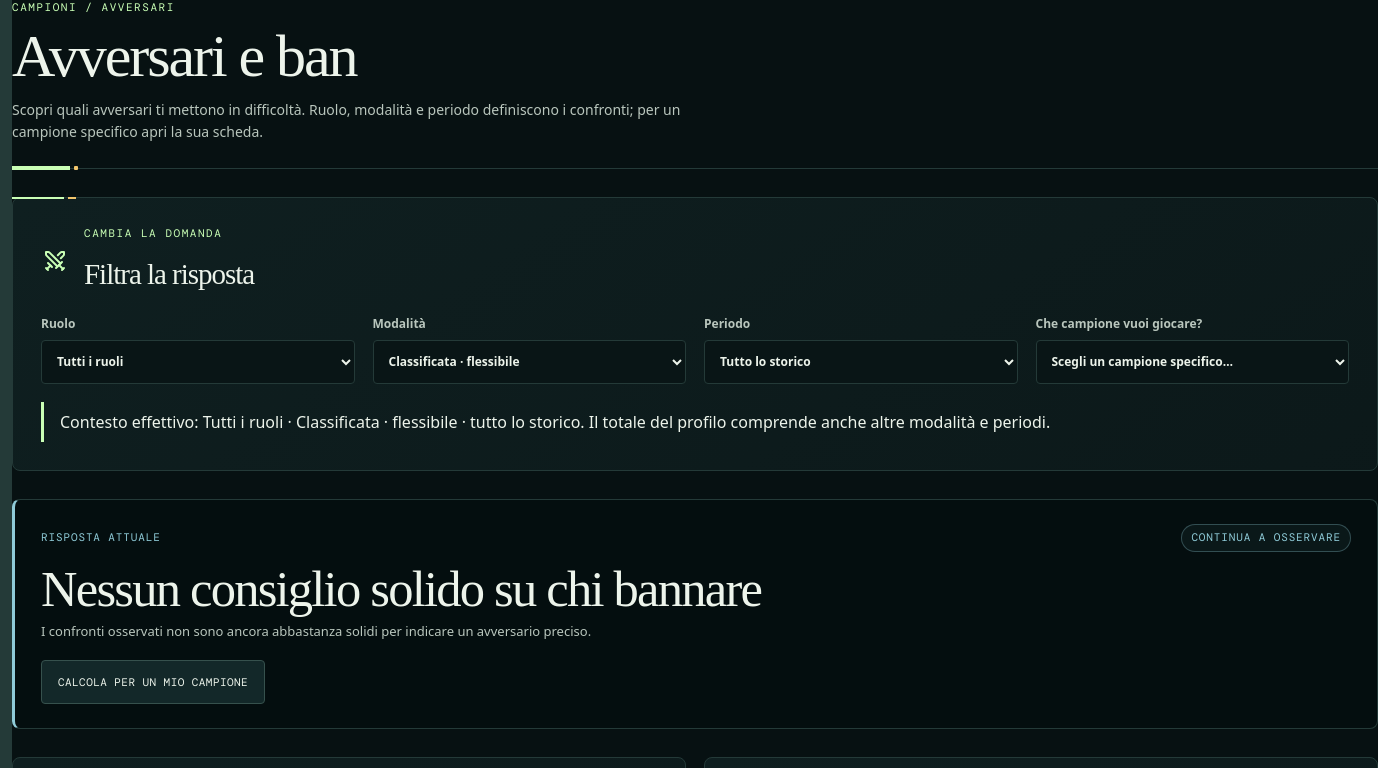
Test: mostra il contesto Flex del link RANKED_FLEX_SR e permette Tutte senza un passaggio intermedio
Step 1. Select "Tutte le modalità" in the dropdown labelled "Modalità" → coordinates (529, 362), box [372, 340, 686, 384]
(page scrolled)
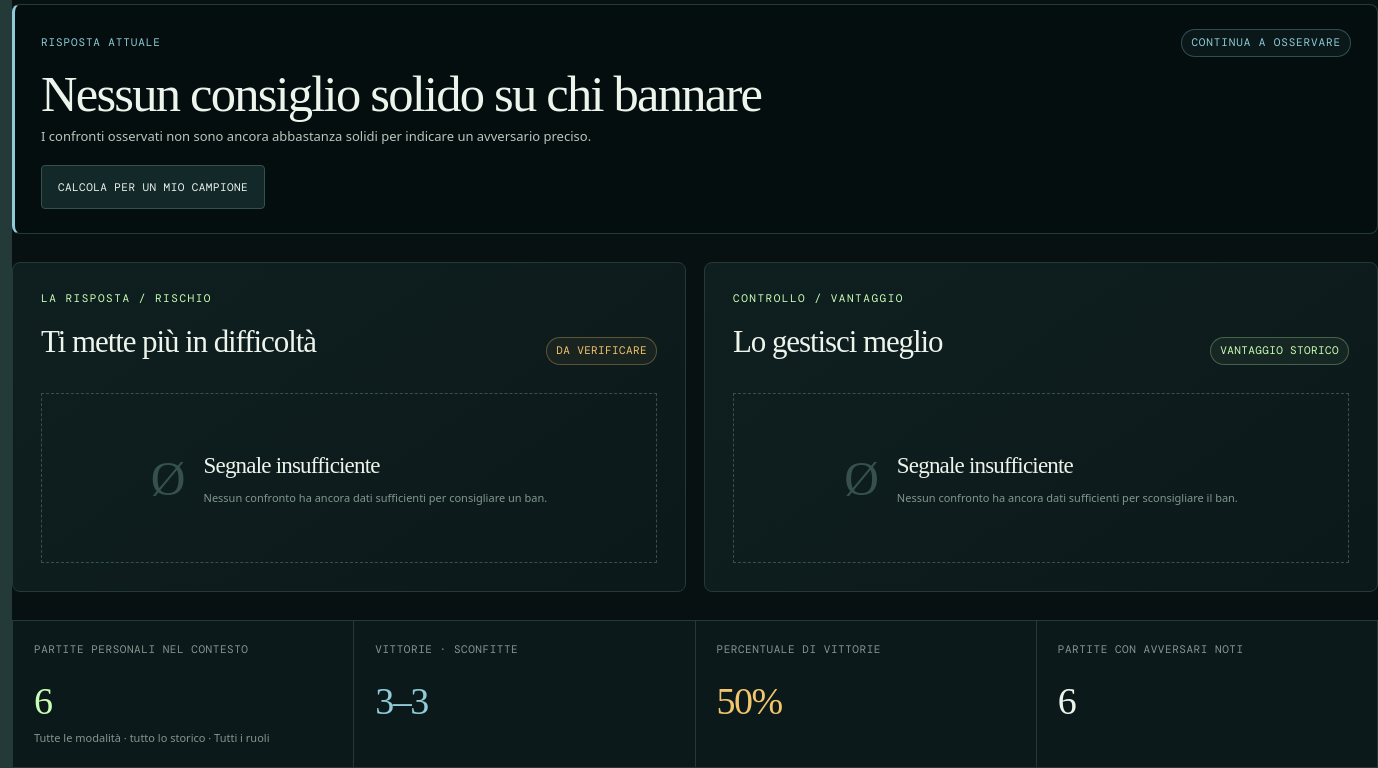
Now the text "6" below "Partite personali nel contesto" is shown, box [34, 680, 52, 722]
